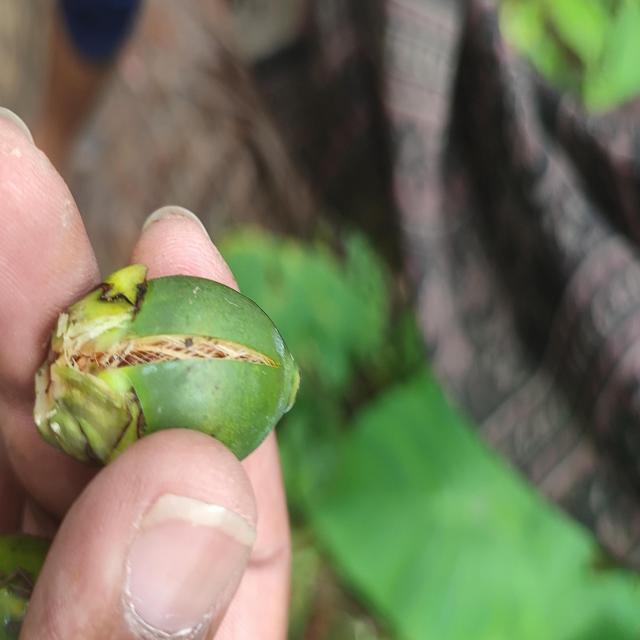damaged: (32, 263, 301, 469)
